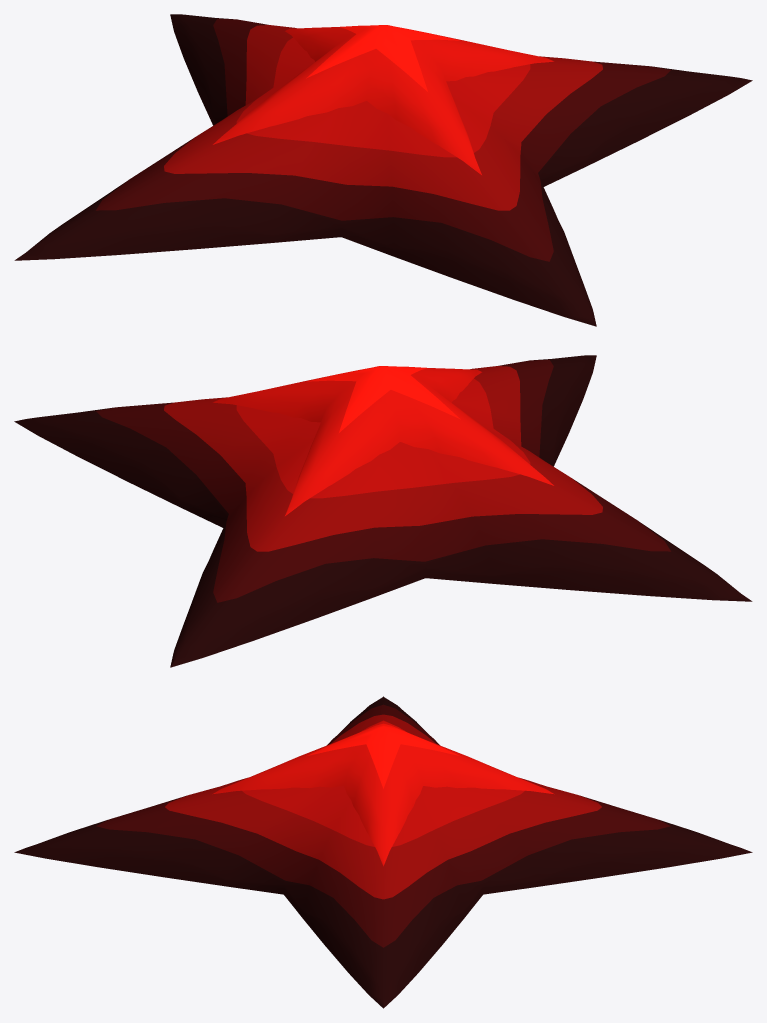
File: shot_starburst_180.glb
The picture shows the model from 3 angles, top to bottom: view 1: azimuth 30°, elevation 25°; view 2: azimuth 150°, elevation 25°; view 3: azimuth 270°, elevation 25°; orthographic projection. The views are drawn at different scales.
Parts seen in each view (by area): view 1: shot_starburst_180_fire, shot_starburst_180_core; view 2: shot_starburst_180_fire, shot_starburst_180_core; view 3: shot_starburst_180_fire, shot_starburst_180_core.
Boxes of the visible parts, left/top/right/bottom form: shot_starburst_180_fire: left=14, top=14, right=752, bottom=326; shot_starburst_180_core: left=213, top=25, right=553, bottom=174; shot_starburst_180_fire: left=14, top=355, right=752, bottom=667; shot_starburst_180_core: left=213, top=366, right=553, bottom=515; shot_starburst_180_fire: left=14, top=696, right=752, bottom=1008; shot_starburst_180_core: left=212, top=720, right=554, bottom=866.
Size of the model in its own units: 12 by 2.25 by 12.
